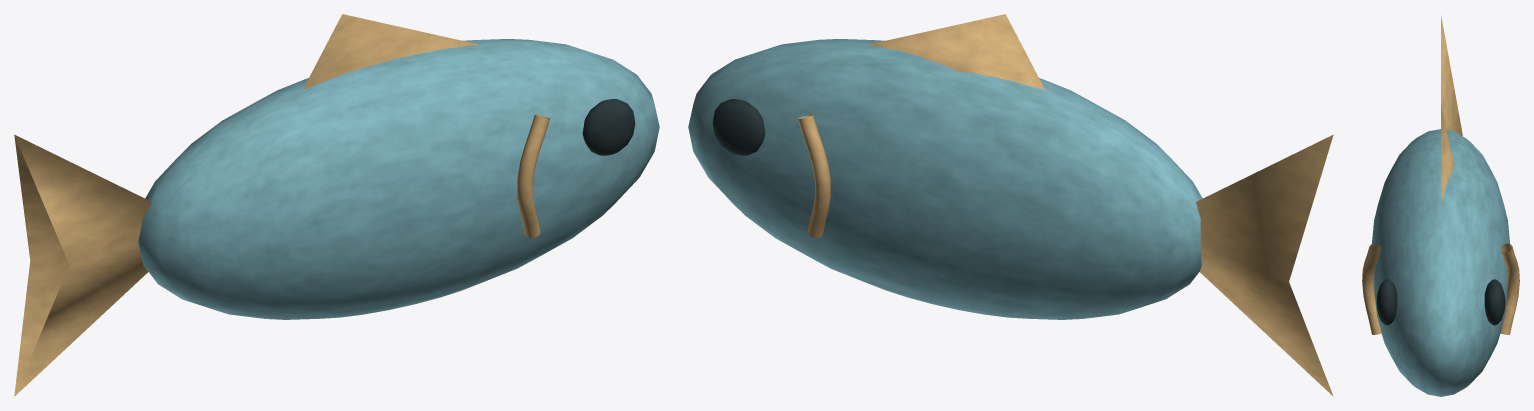
File: small_fish.glb
3 renders of one model, left to right at view 1: azimuth 30°, elevation 25°; view 2: azimuth 150°, elevation 25°; view 3: azimuth 270°, elevation 25°, orthographic. The views are drawn at different scales.
Visible parts, largest first — view 1: small_fish_textured_mesh; view 2: small_fish_textured_mesh; view 3: small_fish_textured_mesh.
Boxes of the visible parts, bbox=[...] form: small_fish_textured_mesh: bbox=[14, 14, 659, 396]; small_fish_textured_mesh: bbox=[688, 14, 1333, 396]; small_fish_textured_mesh: bbox=[1362, 15, 1519, 396].
Bounding box in the file's own units: 2.33 × 1.05 × 0.6481.
Materials: 1 (1 with a texture image).
